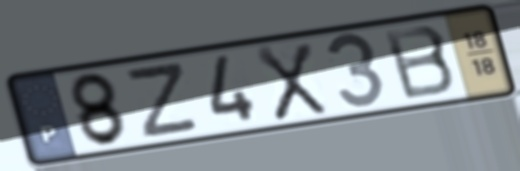3: (323, 28, 390, 114)
4: (206, 51, 261, 127)
8: (67, 70, 131, 149)
B: (379, 22, 459, 103)
X: (251, 40, 331, 124)
Z: (124, 58, 203, 141)
